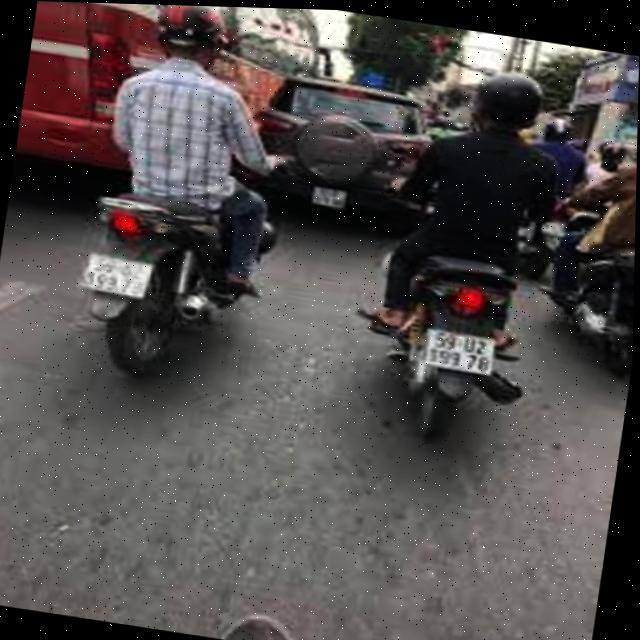car: (7, 0, 187, 221), (242, 56, 452, 241)
motorcycle: (52, 166, 273, 402), (361, 235, 543, 479), (539, 157, 637, 392), (409, 318, 501, 383)
plate: (68, 241, 161, 307), (411, 318, 502, 383), (302, 177, 354, 215)
